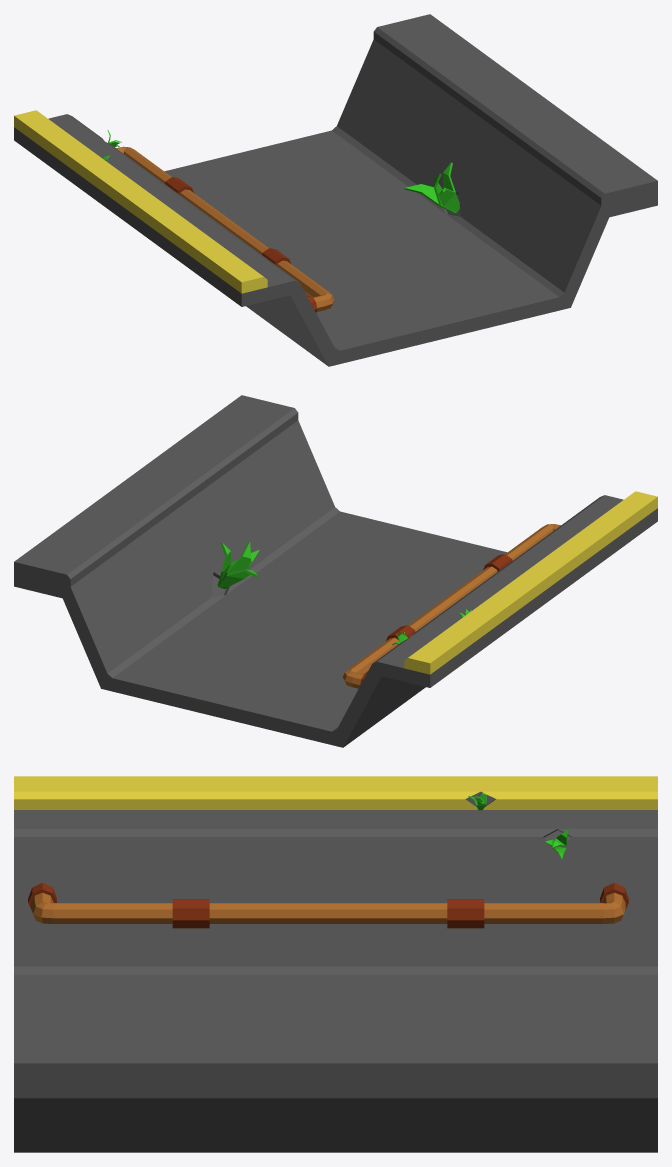
The model's file is Modulo.003 (1).glb.
3 views of the same model, one above another, from view 1: azimuth 30°, elevation 25°; view 2: azimuth 150°, elevation 25°; view 3: azimuth 270°, elevation 25° (orthographic). The views are drawn at different scales.
Visible parts, largest first — view 1: Modulo.003; view 2: Modulo.003; view 3: Modulo.003.
Boxes of the visible parts, bbox=[...] form: Modulo.003: bbox=[14, 14, 657, 366]; Modulo.003: bbox=[14, 395, 657, 747]; Modulo.003: bbox=[14, 776, 657, 1152].
Size of the model in its own units: 32.52 by 7.9 by 30.82.
